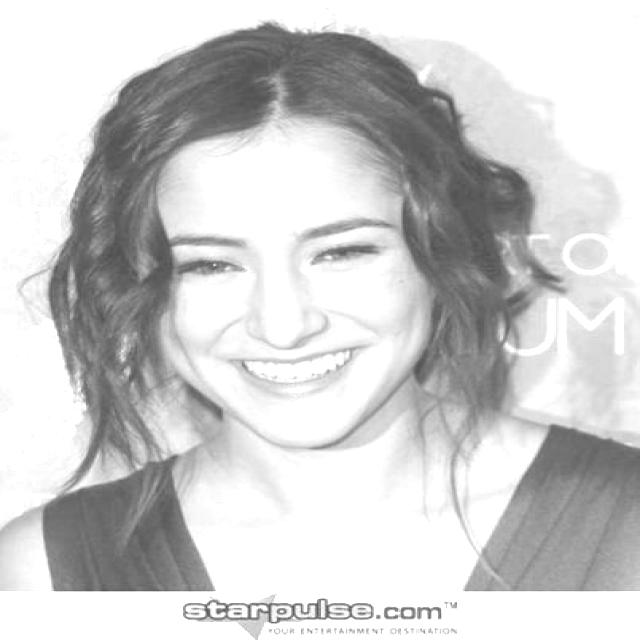real: (164, 184, 411, 450)
